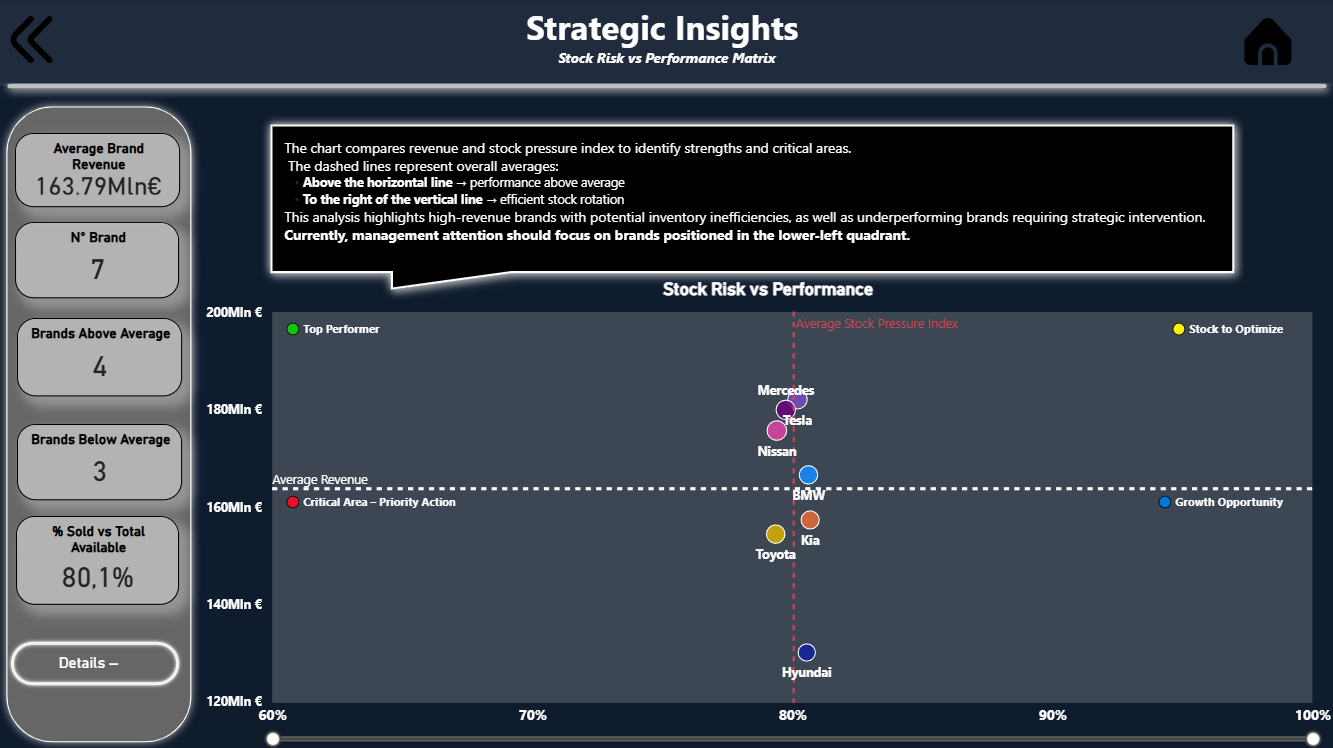

This screenshot's page, from the dashboard's own definition file:
{"tool":"powerbi","page":{"name":"Strategic Insights","canvas":[1280,720],"ordinal":6},"visuals":[{"type":"shape","box":[0,0,1280,84.2],"z":0},{"type":"shape","box":[0,72.5,1280,23.2],"z":1000},{"type":"textbox","box":[0,0,1280,84.9],"z":2000},{"type":"image","box":[0,17.3,63.6,45.3],"z":3000},{"type":"image","box":[1162.5,19.4,104.6,45.3],"z":4000},{"type":"shape","box":[0,95.6,193,624.4],"z":5000},{"type":"card","title":"N° Brand","fields":{"Values":["MISURE.Check Tot Brand"]},"box":[16.7,214.7,157.4,73],"z":6000},{"type":"card","title":"Brands Above Average","fields":{"Values":["MISURE.Brand sotto media Fatturato"]},"box":[17.7,306.4,158.4,75],"z":7000},{"type":"card","title":"Brands Below Average","fields":{"Values":["MISURE.Brand sotto media Fatturato"]},"box":[17.7,407.6,158.4,73],"z":8000},{"type":"card","title":"Average Brand Revenue","fields":{"Values":["MISURE.Media Fatturato Brand"]},"box":[16.7,129.3,158.4,70.9],"z":9000},{"type":"shape","box":[251.2,111.5,940.2,176.2],"z":10000},{"type":"scatterChart","title":"Stock Risk vs Performance","fields":{"Size":["MISURE.QuantitAuto"],"Y":["MISURE.Fatturato"],"X":["MISURE.Indice Pressione Normalizzato"],"Series":["cars_clean.Brand"]},"box":[193,267.5,1087.2,452.5],"z":11000},{"type":"textbox","box":[268.9,129.3,904.8,122],"z":12000},{"type":"card","title":"% Sold vs Total Available","fields":{"Values":["MISURE.Indice Pressione Normalizzato"]},"box":[17.6,495.9,156.2,84.7],"z":13000},{"type":"card","fields":{"Values":["MISURE.Titolo Drill"]},"box":[0,612.3,176,48.8],"z":14000},{"type":"actionButton","box":[8.6,612.3,168.4,48.8],"z":15000},{"type":"textbox","box":[260.3,478.5,260.3,29.6],"z":16000},{"type":"textbox","box":[269.8,466.8,221.9,29.7],"z":17000},{"type":"textbox","box":[269.3,301.6,104.1,29.6],"z":18000},{"type":"textbox","box":[1104.2,466.8,151.7,29.6],"z":19000},{"type":"textbox","box":[1117.7,301.6,124.8,29.6],"z":20000}]}

Visuals, with their boxes in screenshot pixels (x1, y1, x2, y2), scaled from the page's 1280x720 canvas onto the 1333x748 screenshot:
shape: x1=0, y1=0, x2=1332, y2=87
shape: x1=0, y1=75, x2=1332, y2=99
textbox: x1=0, y1=0, x2=1332, y2=88
image: x1=0, y1=18, x2=66, y2=65
image: x1=1211, y1=20, x2=1320, y2=67
shape: x1=0, y1=99, x2=201, y2=747
"N° Brand" card: x1=17, y1=223, x2=181, y2=299
"Brands Above Average" card: x1=18, y1=318, x2=183, y2=396
"Brands Below Average" card: x1=18, y1=423, x2=183, y2=499
"Average Brand Revenue" card: x1=17, y1=134, x2=182, y2=208
shape: x1=262, y1=116, x2=1241, y2=299
"Stock Risk vs Performance" scatterChart: x1=201, y1=278, x2=1332, y2=747
textbox: x1=280, y1=134, x2=1222, y2=261
"% Sold vs Total Available" card: x1=18, y1=515, x2=181, y2=603
card - MISURE.Titolo Drill: x1=0, y1=636, x2=183, y2=687
actionButton: x1=9, y1=636, x2=184, y2=687
textbox: x1=271, y1=497, x2=542, y2=528
textbox: x1=281, y1=485, x2=512, y2=516
textbox: x1=280, y1=313, x2=389, y2=344
textbox: x1=1150, y1=485, x2=1308, y2=516
textbox: x1=1164, y1=313, x2=1294, y2=344
